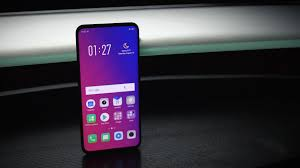oppo: (75, 18, 146, 158)
